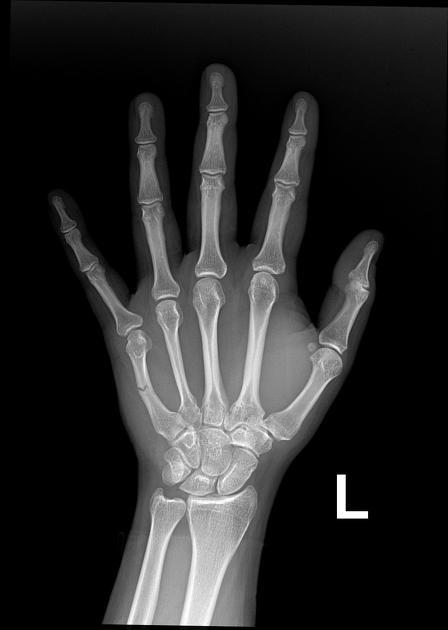fractured: (133, 382, 151, 396)
